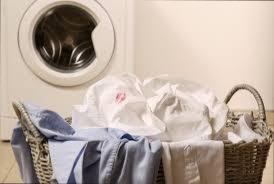lipstick: (112, 88, 129, 105)
